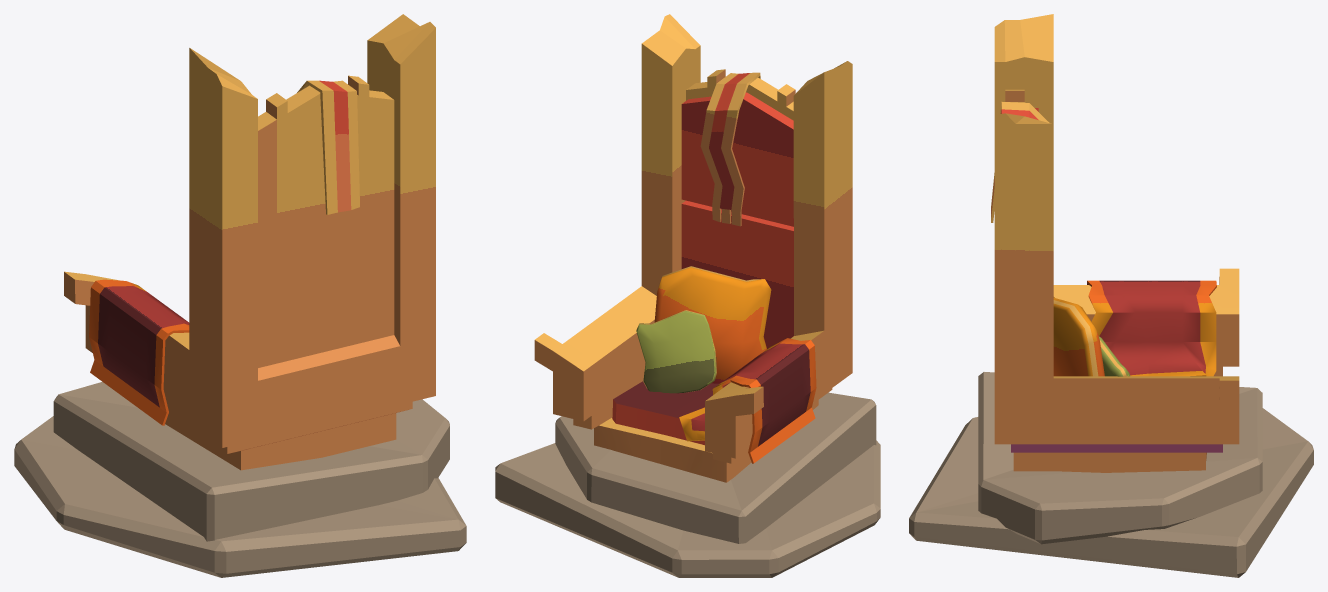
The model's file is trone_v02.fbx.
3 views of the same model, side by side, from view 1: azimuth 30°, elevation 25°; view 2: azimuth 150°, elevation 25°; view 3: azimuth 270°, elevation 25° (orthographic). The views are drawn at different scales.
Visible parts, largest first — view 1: polySurface1, polySurface8, polySurface9, polySurface6, polySurface7; view 2: polySurface1, polySurface9, polySurface8, polySurface2, polySurface3, polySurface4, polySurface6, polySurface10, polySurface7; view 3: polySurface1, polySurface9, polySurface8, polySurface6, polySurface4, polySurface7, polySurface10.
Boxes of the visible parts, bbox=[...] form: polySurface1: bbox=[64, 14, 435, 470]; polySurface8: bbox=[53, 382, 449, 541]; polySurface9: bbox=[14, 416, 466, 577]; polySurface6: bbox=[89, 279, 189, 425]; polySurface7: bbox=[297, 80, 359, 214]; polySurface1: bbox=[534, 14, 852, 482]; polySurface9: bbox=[495, 440, 880, 577]; polySurface8: bbox=[555, 392, 876, 543]; polySurface2: bbox=[612, 200, 793, 445]; polySurface3: bbox=[681, 92, 793, 226]; polySurface4: bbox=[654, 266, 771, 383]; polySurface6: bbox=[679, 338, 816, 463]; polySurface10: bbox=[636, 310, 716, 393]; polySurface7: bbox=[700, 72, 760, 226]; polySurface1: bbox=[994, 14, 1239, 472]; polySurface9: bbox=[909, 408, 1313, 577]; polySurface8: bbox=[978, 372, 1262, 544]; polySurface6: bbox=[1087, 280, 1216, 376]; polySurface4: bbox=[1053, 297, 1104, 376]; polySurface7: bbox=[991, 102, 1049, 222]; polySurface10: bbox=[1098, 336, 1130, 376].
Size of the model in its own units: 568 by 706 by 584.
Materials: 1 (1 with a texture image).
